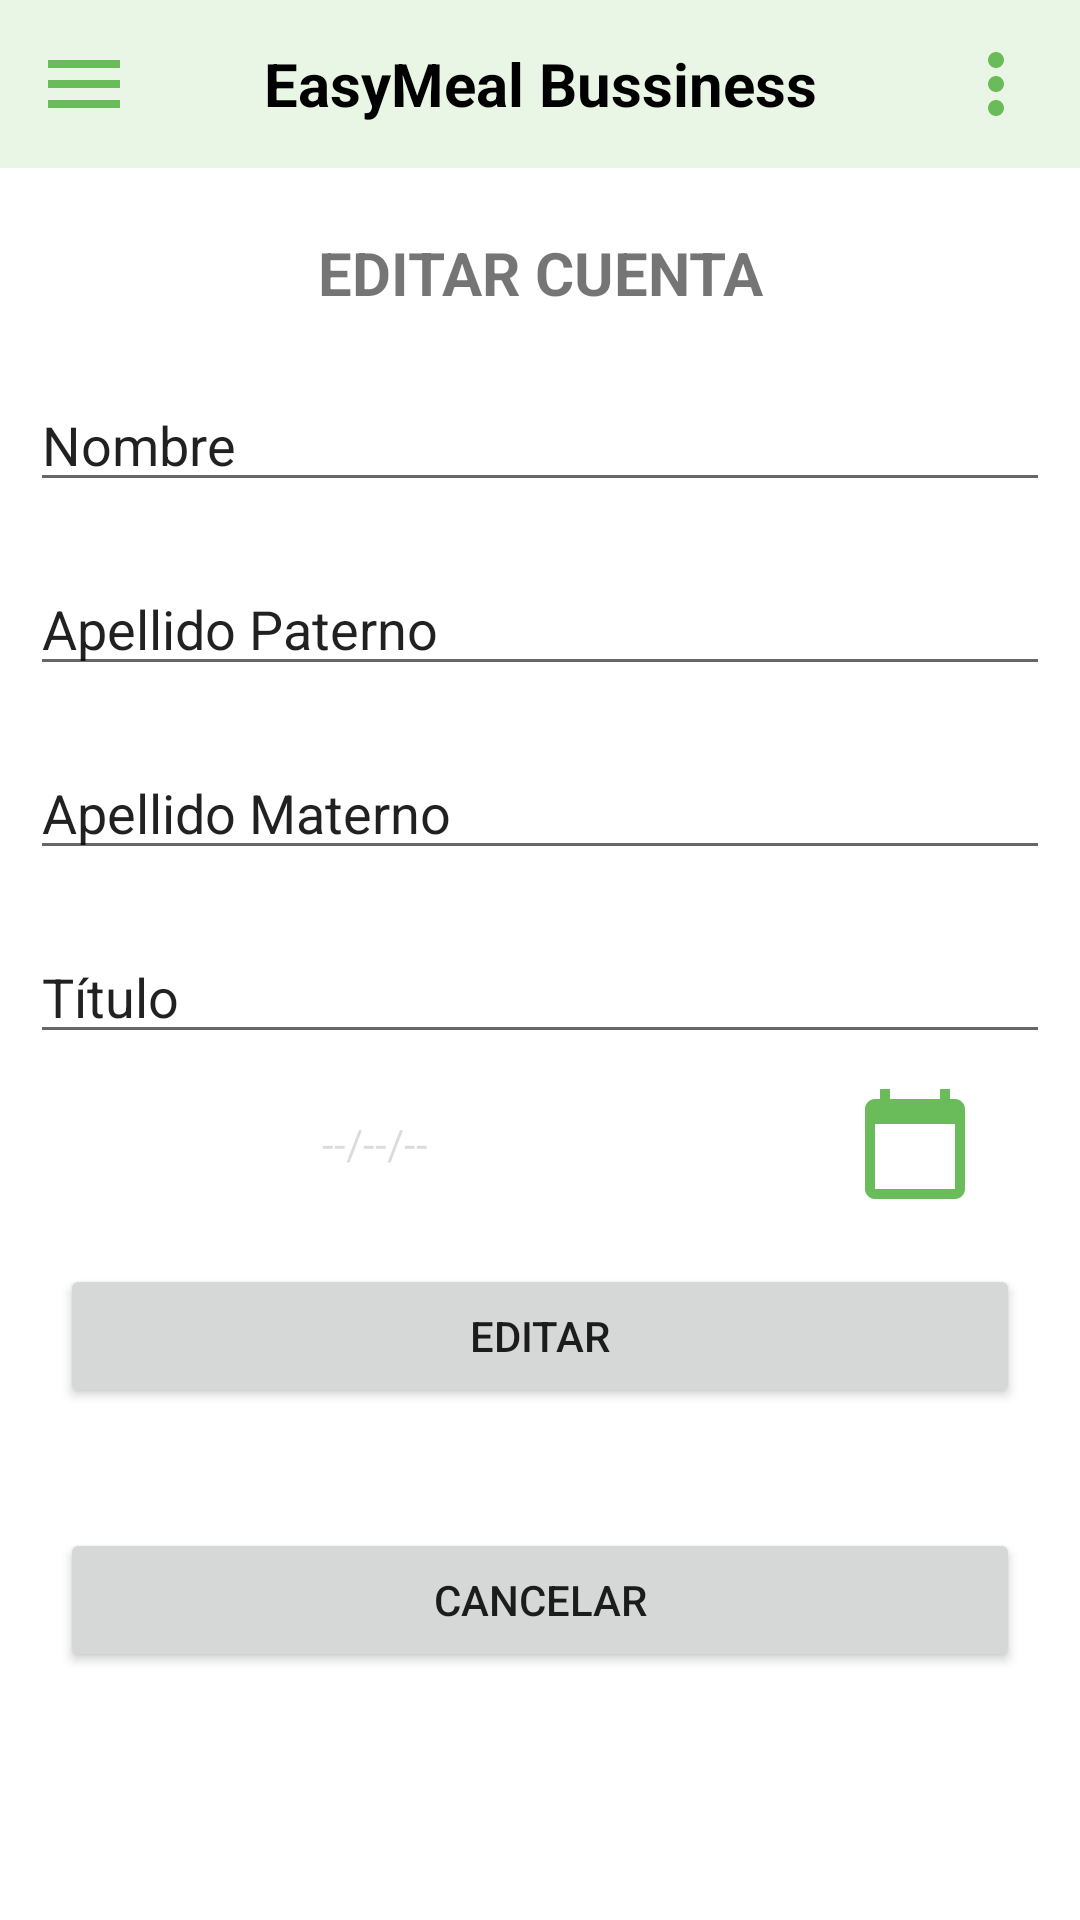

Named icons in this screenshot (1080×1920) and their bounding boxes, (x1, y1, x2, y2):
horario: (865, 1089, 965, 1199)
menu: (48, 60, 120, 108)
more: (988, 52, 1004, 116)
